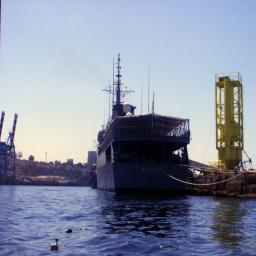Fragata: (93, 43, 195, 199)
